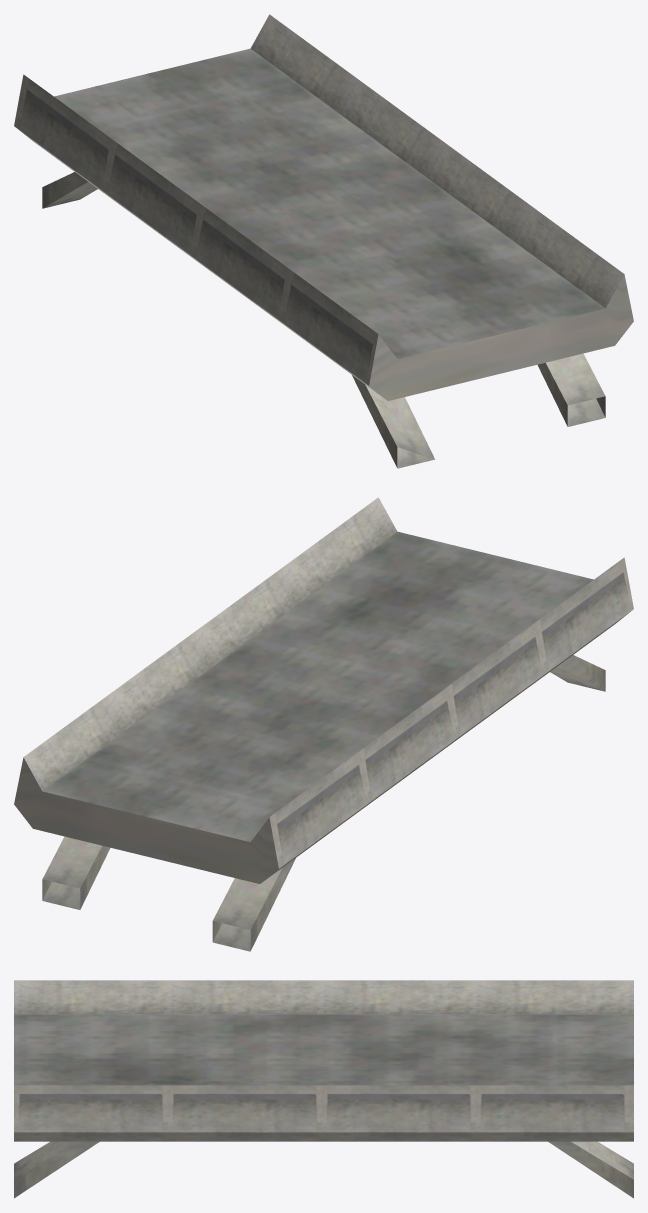
The model's file is thm_corl_imprv_bridge_sm_s02_l3.fbx.
The picture shows the model from 3 angles, top to bottom: view 1: azimuth 30°, elevation 25°; view 2: azimuth 150°, elevation 25°; view 3: azimuth 270°, elevation 25°; orthographic projection. The views are drawn at different scales.
Visible parts, largest first — view 1: mesh_node; view 2: mesh_node; view 3: mesh_node.
Part boxes in pixels (box(x1,y1,x2,y2)): mesh_node: box(14, 14, 633, 468); mesh_node: box(14, 497, 633, 951); mesh_node: box(14, 980, 633, 1198).
Size of the model in its own units: 7 by 3.51 by 16.25.
Materials: 1 (1 with a texture image).
